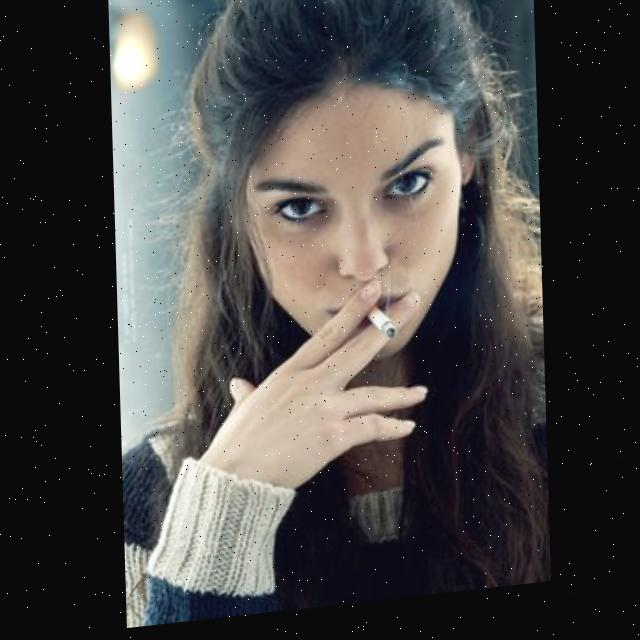cigarette: (367, 312, 394, 347)
